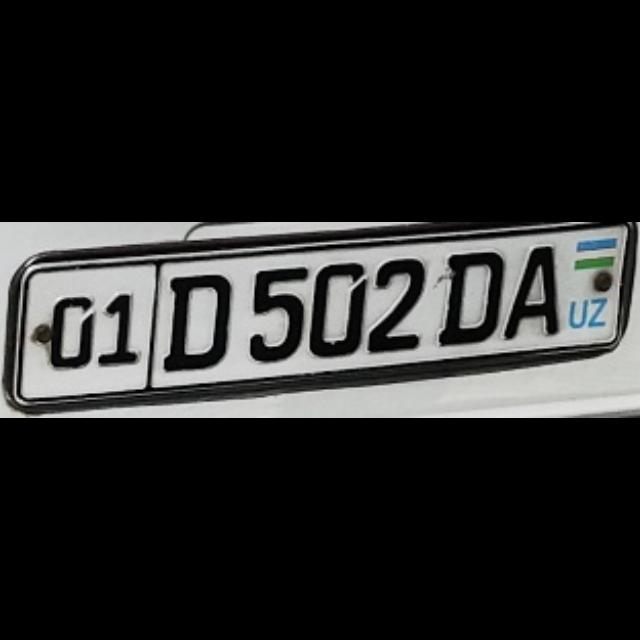0: (310, 263, 358, 353), (48, 292, 88, 368)
1: (99, 292, 138, 364)
2: (368, 257, 422, 349)
5: (248, 265, 302, 359)
A: (504, 243, 558, 335)
D: (167, 273, 226, 367), (442, 251, 501, 341)
